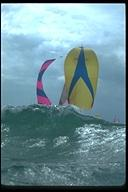sailboat: (33, 41, 101, 115)
sky: (2, 4, 125, 45)
water: (2, 115, 125, 185)
